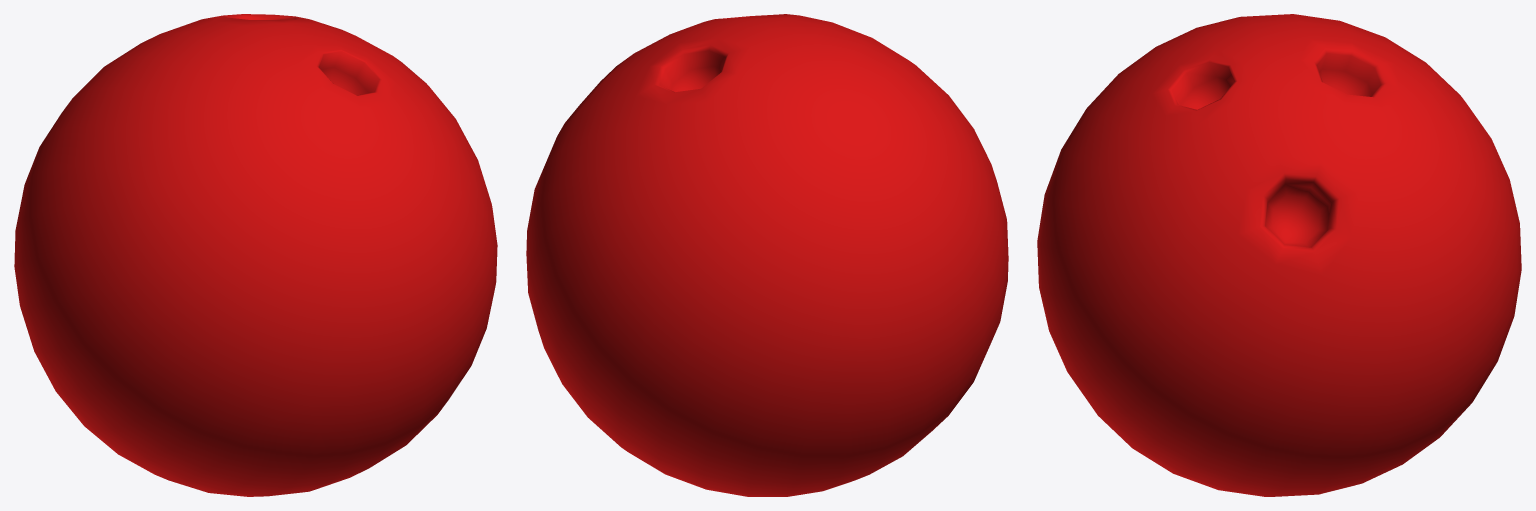
File: bowlingBall6.obj
3 views of the same model, side by side, from view 1: azimuth 30°, elevation 25°; view 2: azimuth 150°, elevation 25°; view 3: azimuth 270°, elevation 25° (orthographic).
Parts seen in each view (by area): view 1: bowlingBall6; view 2: bowlingBall6; view 3: bowlingBall6.
Boxes of the visible parts, x1,y1,x2,y2 form: bowlingBall6: (14, 14, 497, 496); bowlingBall6: (526, 14, 1008, 496); bowlingBall6: (1037, 14, 1521, 496).
Size of the model in its own units: 0.1729 by 0.1725 by 0.1727.
